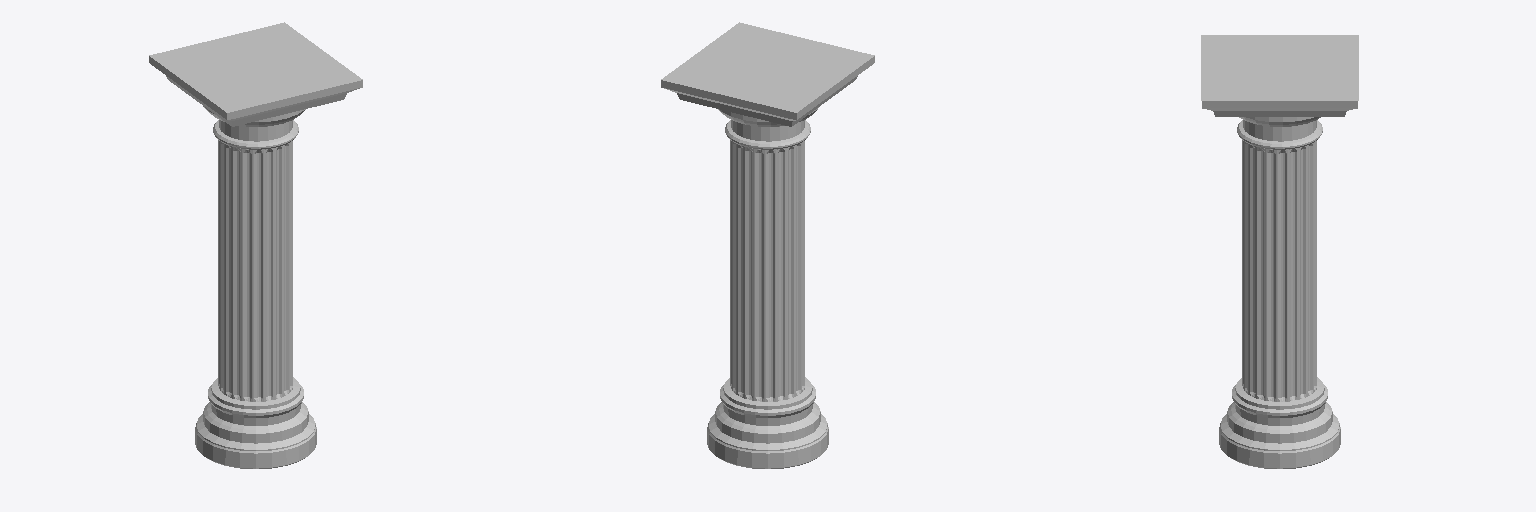
The model's file is column.obj.
3 views of the same model, side by side, from view 1: azimuth 30°, elevation 25°; view 2: azimuth 150°, elevation 25°; view 3: azimuth 270°, elevation 25° (orthographic).
Visible parts, largest first — view 1: Circle.006_Circle.010; view 2: Circle.006_Circle.010; view 3: Circle.006_Circle.010.
Boxes of the visible parts, <box> form: Circle.006_Circle.010: <box>149,22,362,468</box>; Circle.006_Circle.010: <box>661,22,874,468</box>; Circle.006_Circle.010: <box>1201,35,1358,468</box>.
Bounding box in the file's own units: 30.28 × 80.09 × 30.28.